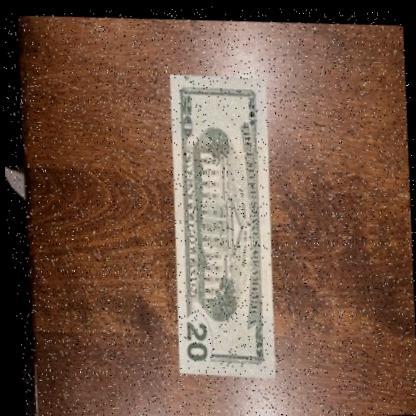twenty-back: (152, 65, 293, 381)
